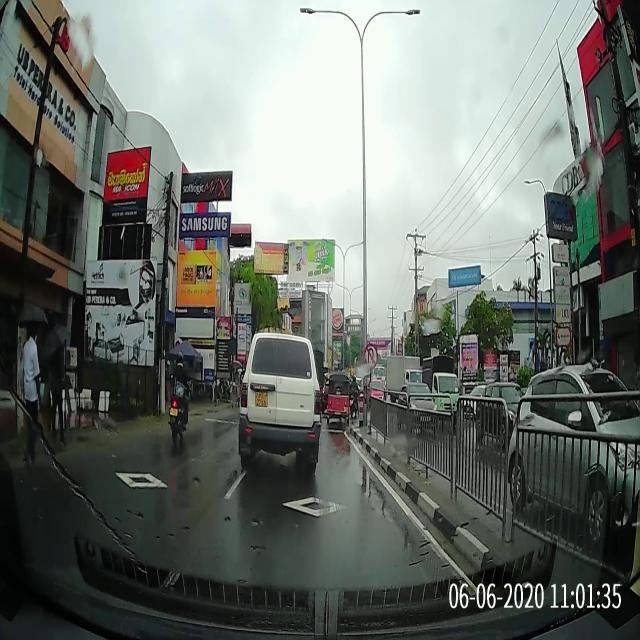Romb: (281, 495, 349, 518), (114, 472, 170, 489)
